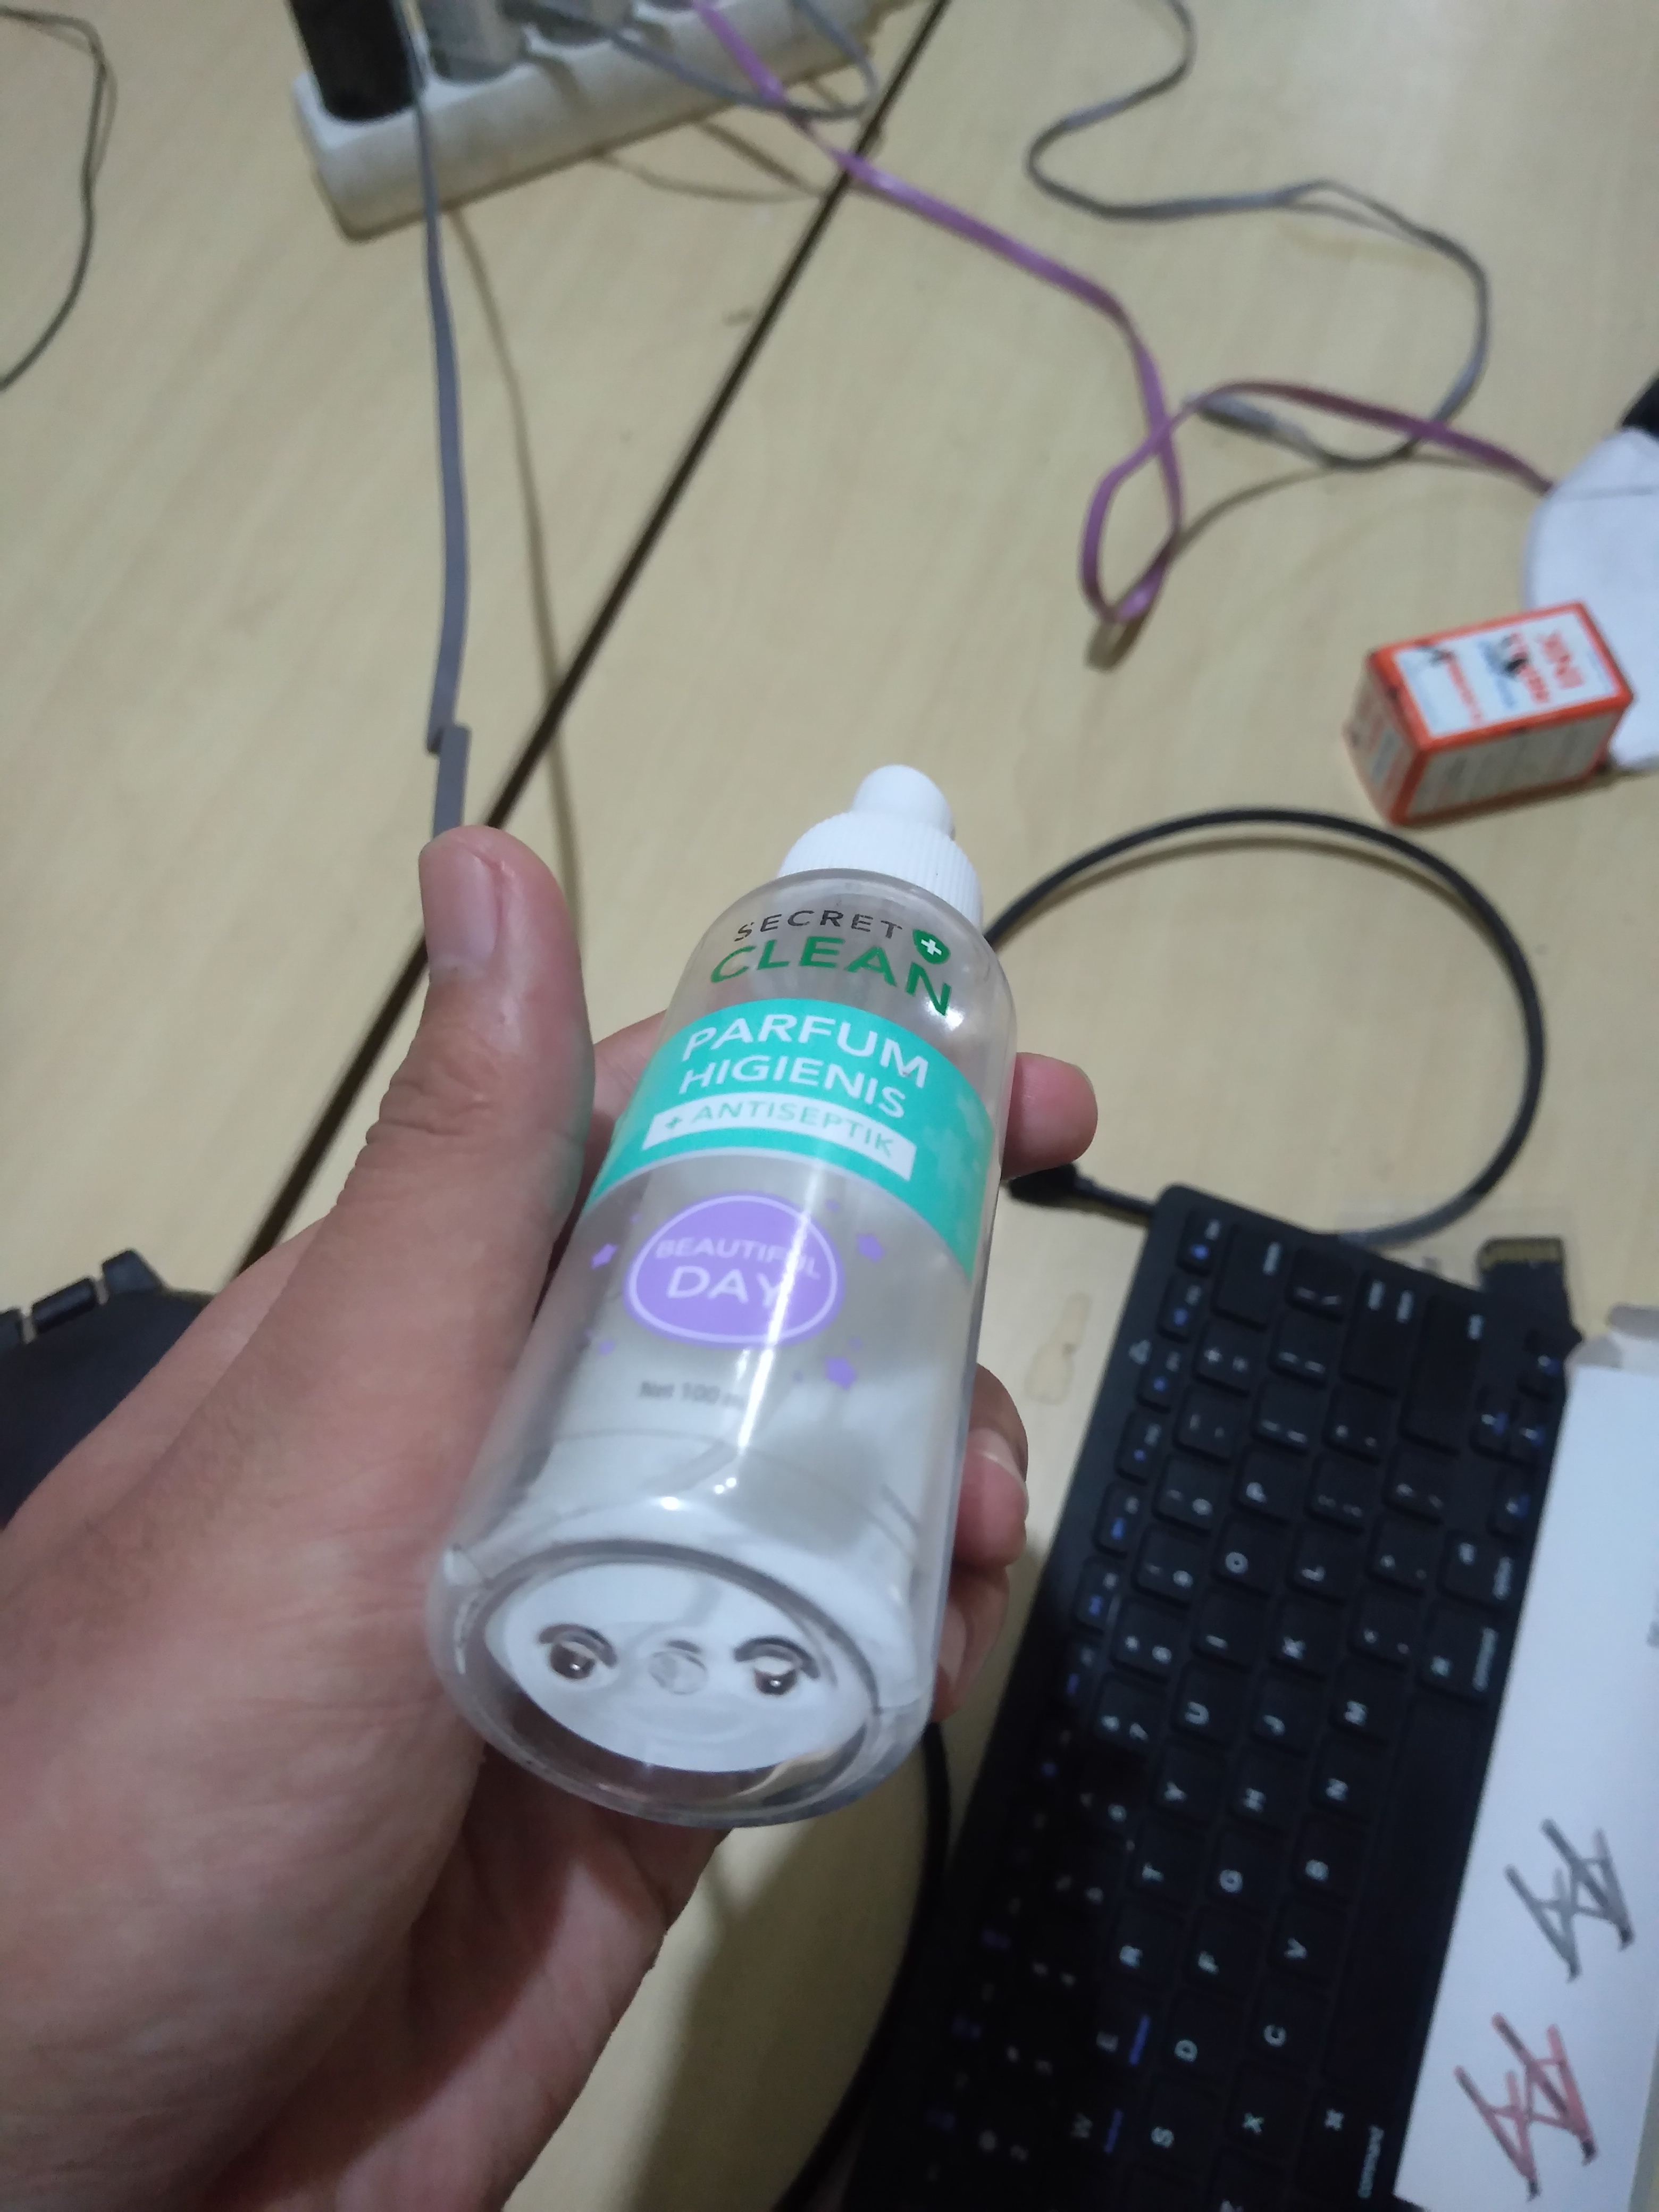hand sanitizer: (446, 657, 1077, 1848)
